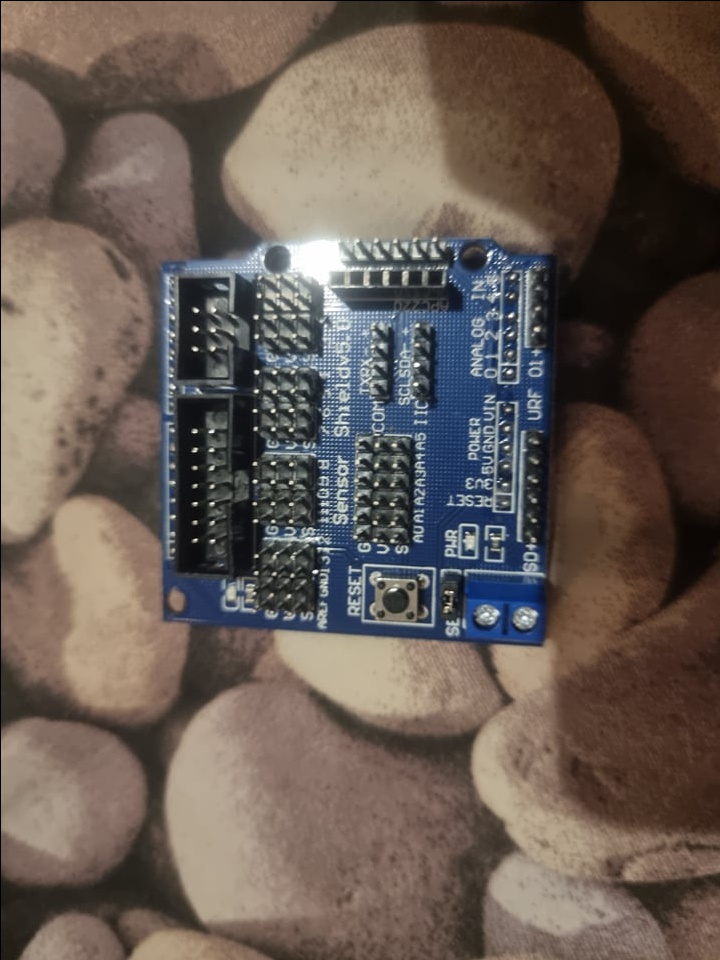5V EXPANSION: (158, 235, 552, 647)
